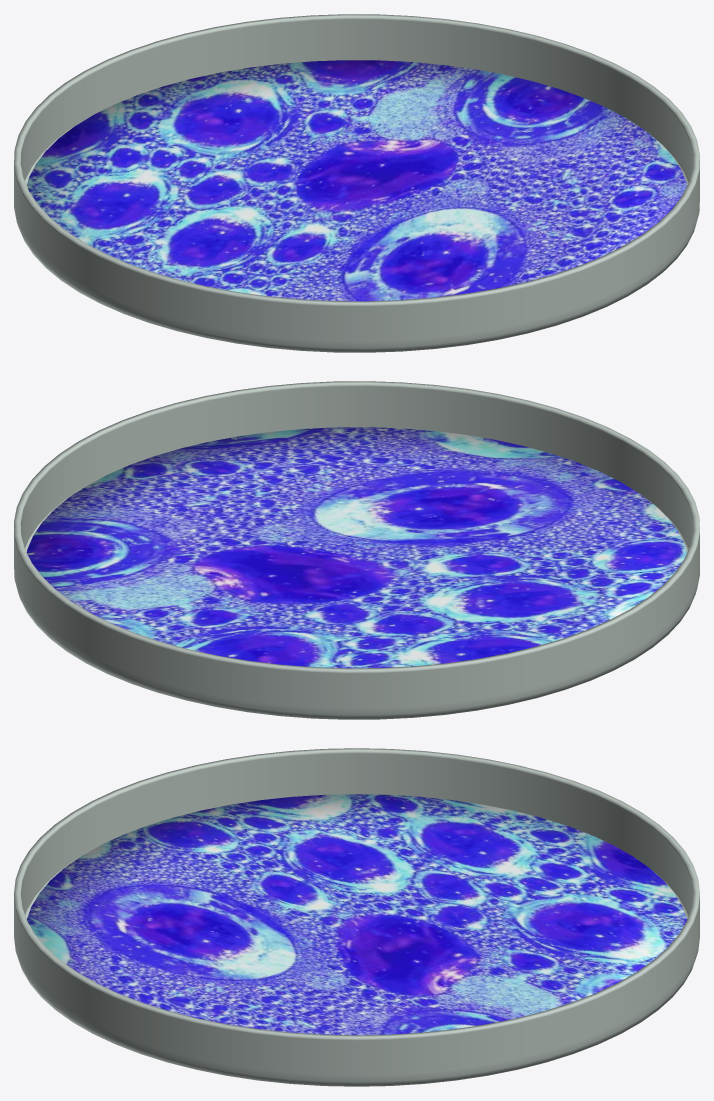
Rendered from petri.obj.
3 renders of one model, top to bottom at view 1: azimuth 30°, elevation 25°; view 2: azimuth 150°, elevation 25°; view 3: azimuth 270°, elevation 25°, orthographic.
Parts seen in each view (by area): view 1: Medium.001, Medium; view 2: Medium.001, Medium; view 3: Medium.001, Medium.
Part boxes in pixels (left/top/right/bottom): Medium.001: left=27, top=60, right=687, bottom=301; Medium: left=14, top=14, right=699, bottom=352; Medium.001: left=26, top=427, right=686, bottom=668; Medium: left=14, top=381, right=699, bottom=719; Medium.001: left=26, top=794, right=687, bottom=1035; Medium: left=14, top=748, right=699, bottom=1086.
Bounding box in the file's own units: 3.86 × 0.3209 × 3.86.
